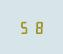eight: (31, 20, 42, 34)
five: (19, 20, 30, 34)
